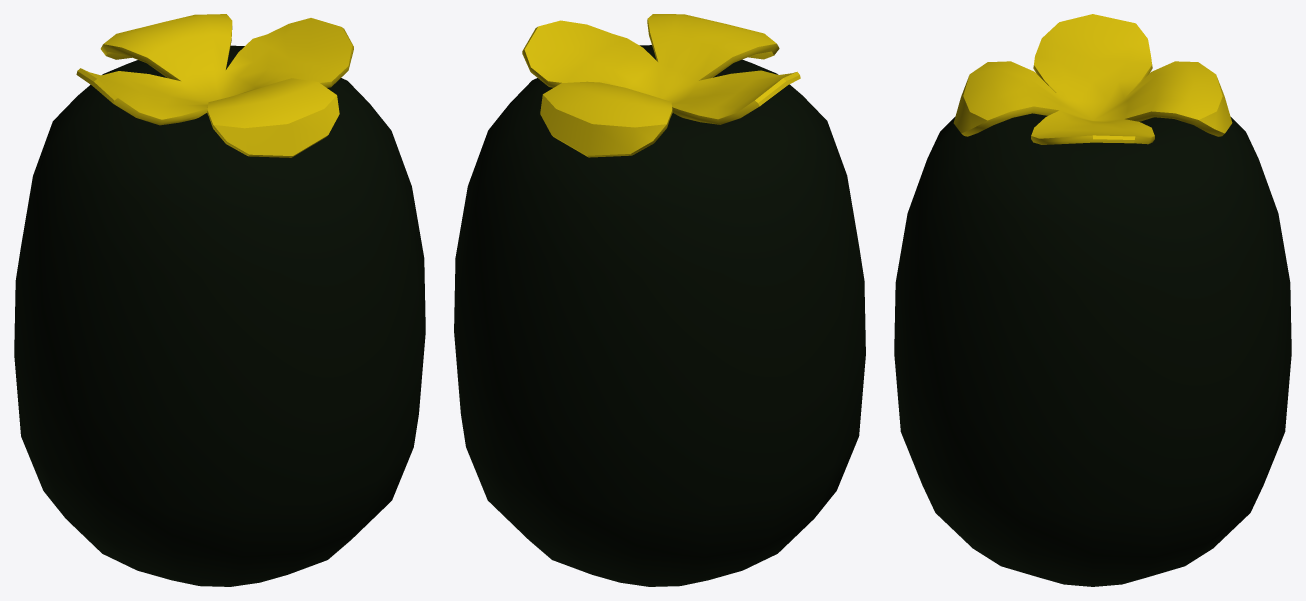
Rendered from Feijoa.FBX.
The picture shows the model from 3 angles, left to right: view 1: azimuth 30°, elevation 25°; view 2: azimuth 150°, elevation 25°; view 3: azimuth 270°, elevation 25°; orthographic projection. The views are drawn at different scales.
Visible parts, largest first — view 1: Feijoa; view 2: Feijoa; view 3: Feijoa.
Boxes of the visible parts, x1,y1,x2,y2 form: Feijoa: (14,14,425,586); Feijoa: (454,14,865,586); Feijoa: (894,14,1291,586).
Bounding box in the file's own units: 861 × 861 × 1176.
